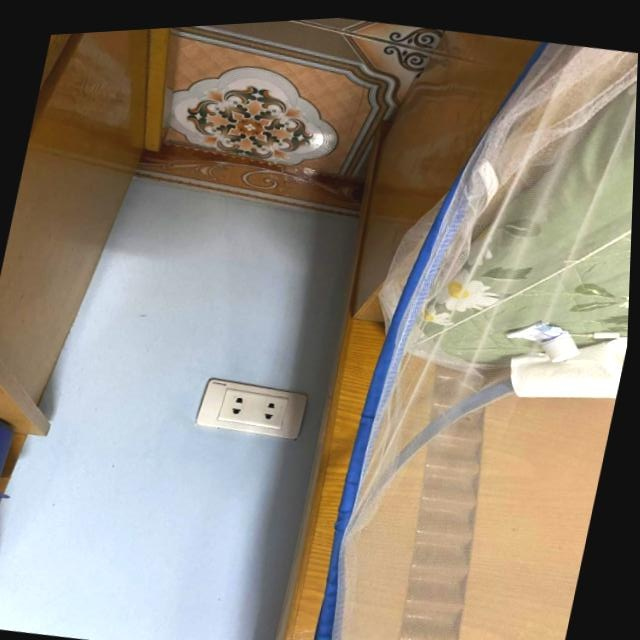outlet: (194, 370, 312, 445)
